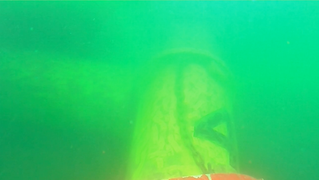4: (193, 110, 239, 173)
leak: (167, 173, 258, 180)
pipe: (123, 44, 238, 180), (1, 49, 143, 134)
